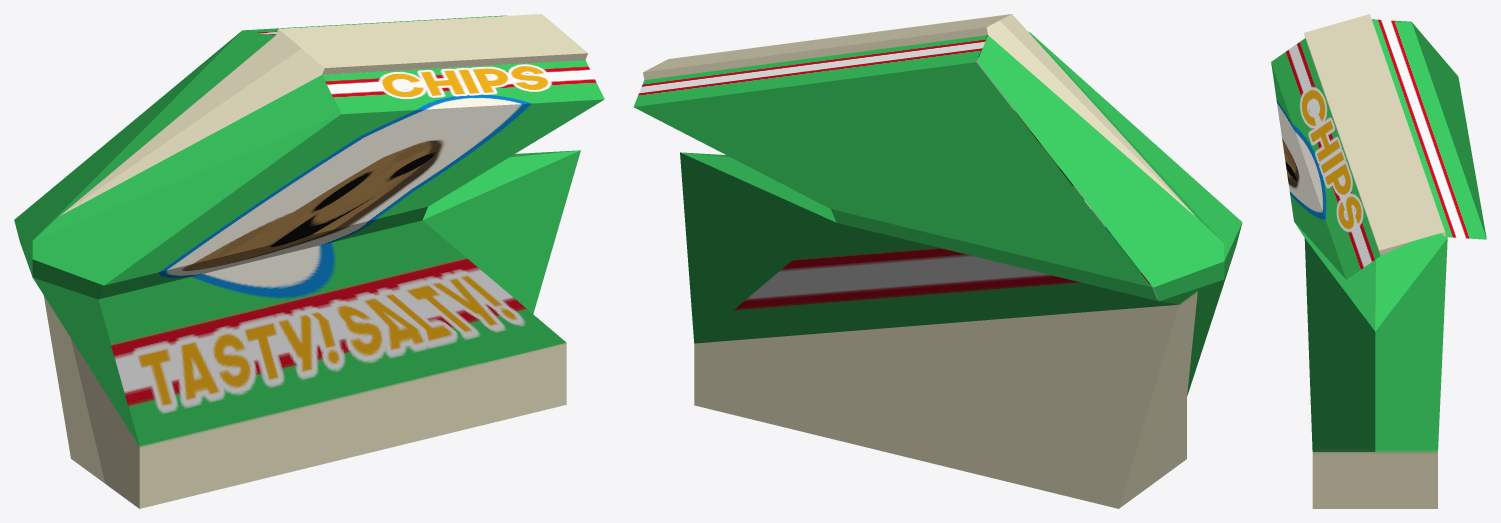
The model's file is mod_item_chipBag_crumpled.fbx.
The picture shows the model from 3 angles, left to right: view 1: azimuth 30°, elevation 25°; view 2: azimuth 150°, elevation 25°; view 3: azimuth 270°, elevation 25°; orthographic projection. The views are drawn at different scales.
Visible parts, largest first — view 1: mesh_chipBag; view 2: mesh_chipBag; view 3: mesh_chipBag.
Part boxes in pixels (x1,y1,x2,y2): mesh_chipBag: [14, 14, 604, 508]; mesh_chipBag: [633, 14, 1242, 508]; mesh_chipBag: [1271, 14, 1486, 508].
Size of the model in its own units: 188 by 134 by 68.81.
